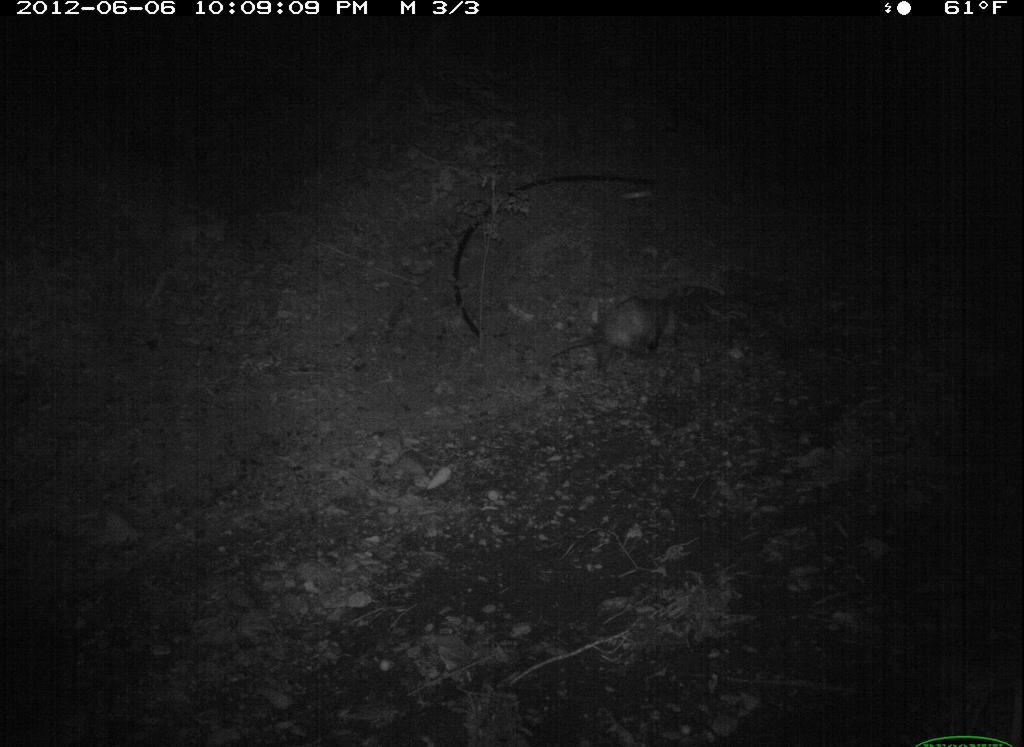opossum: (534, 277, 702, 390)
